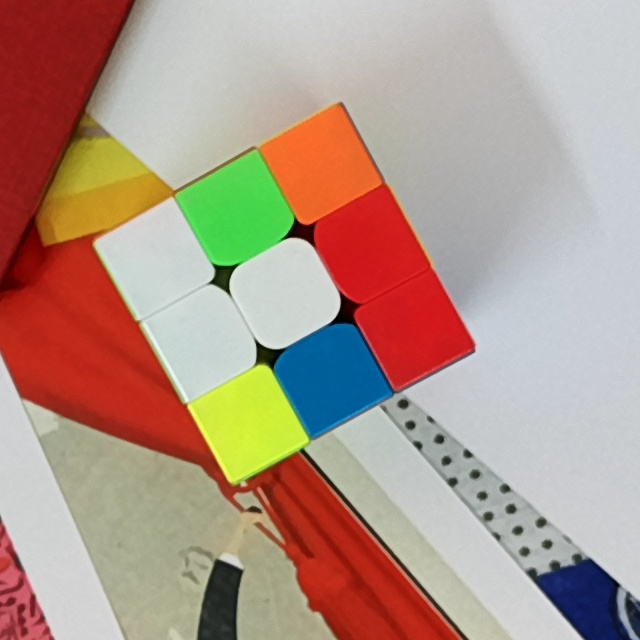tile: (336, 212, 402, 282), (288, 130, 354, 198), (382, 295, 446, 363), (205, 179, 271, 244), (170, 307, 234, 373), (297, 344, 364, 407), (256, 257, 319, 324), (125, 224, 190, 288), (214, 392, 280, 453)
